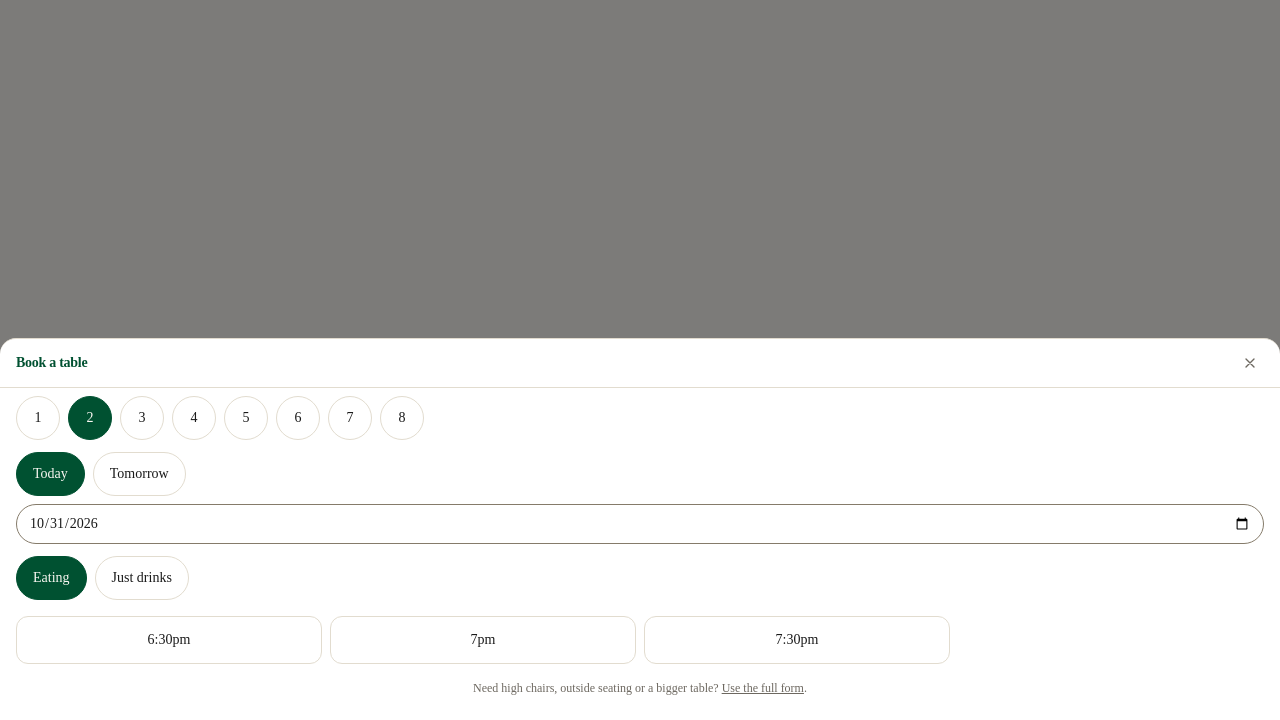
QuickBookSheet reads the state of the booking, not the status of the reply › does not promise a text before the booking is made
Click the button "7pm" at (483, 640), box [330,616,636,664]
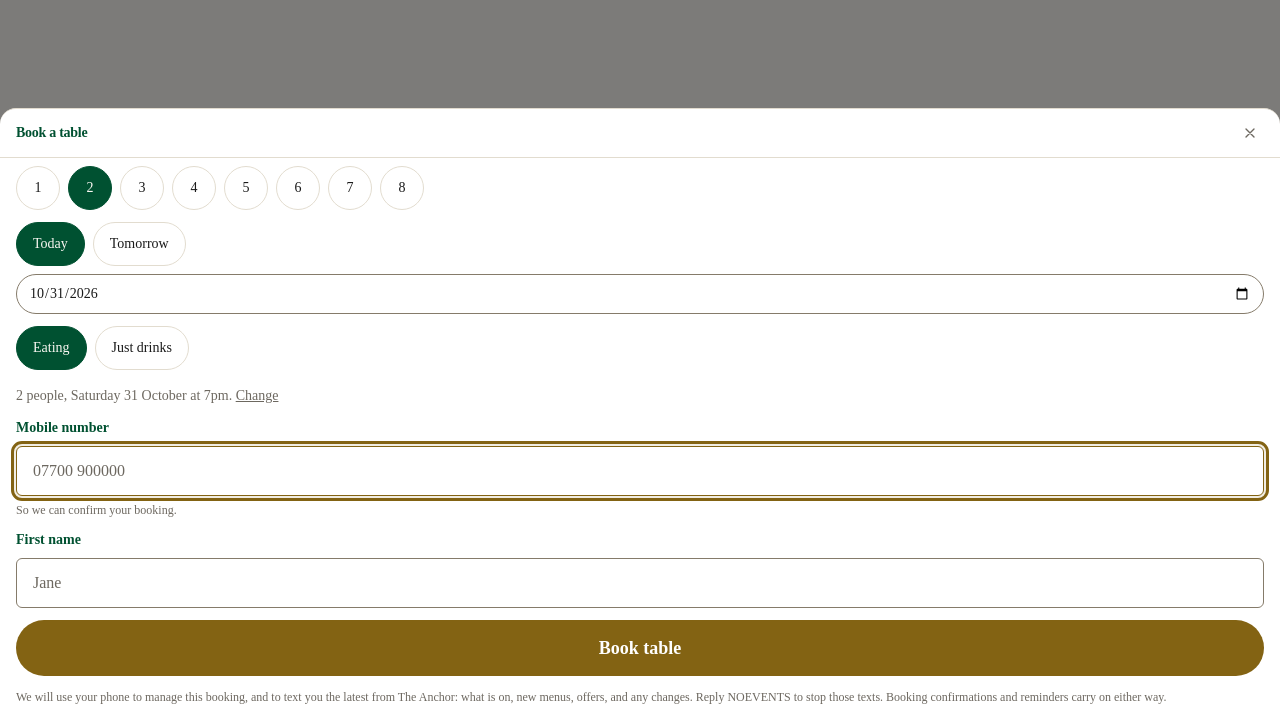
Expected: the text "So we can confirm your booking." is shown, [16,503,177,517]
